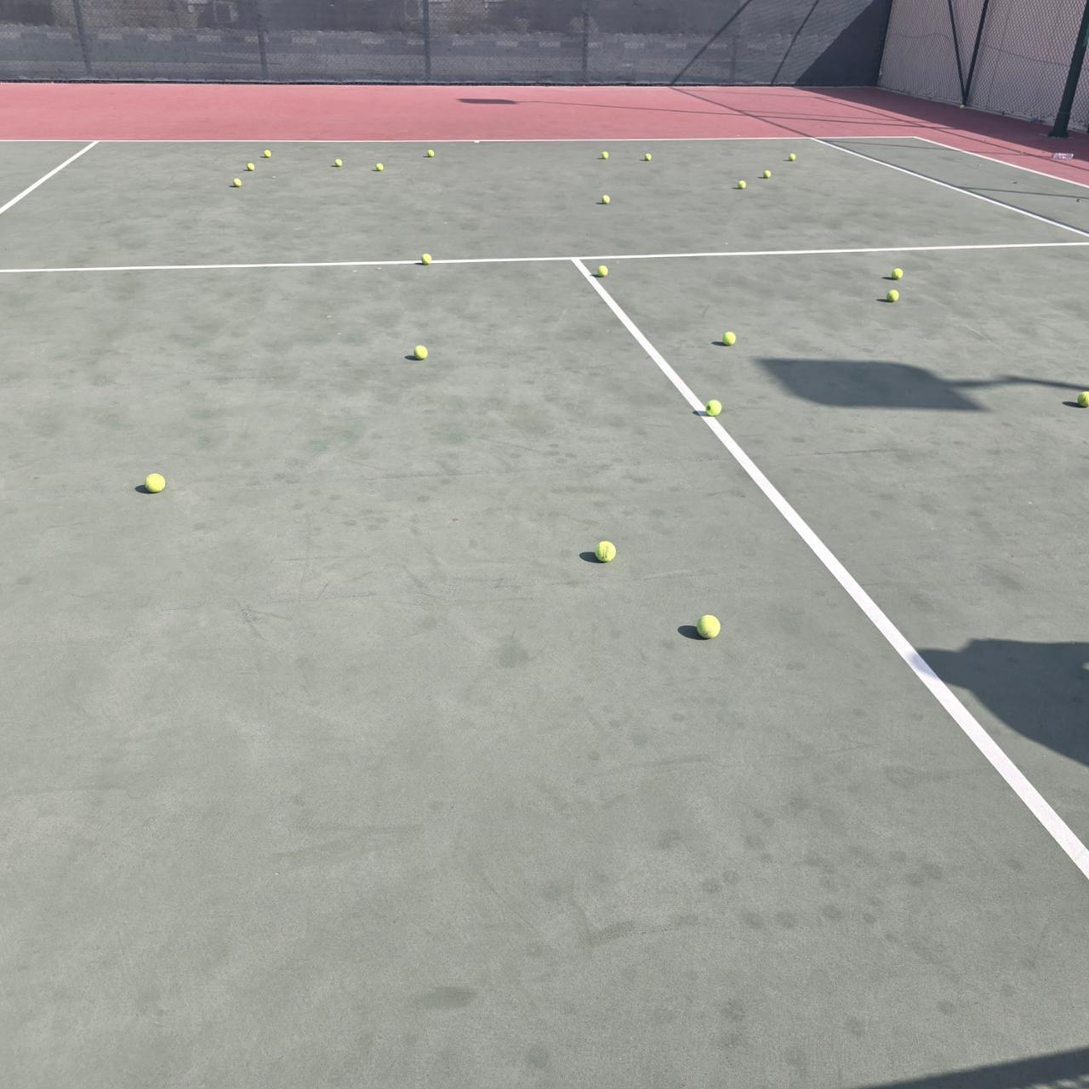tennis-ball: (695, 612, 721, 639), (593, 538, 616, 562), (143, 470, 166, 493), (705, 397, 722, 415), (413, 342, 428, 359), (721, 329, 736, 345), (1075, 389, 1088, 407), (890, 265, 903, 280), (596, 263, 608, 277), (887, 288, 899, 302), (421, 253, 432, 265), (232, 178, 242, 188), (334, 158, 343, 167), (601, 195, 610, 204), (738, 181, 747, 190), (763, 170, 772, 179), (247, 162, 255, 171), (264, 149, 272, 158), (644, 153, 652, 162), (376, 163, 384, 171), (602, 151, 610, 159), (428, 149, 435, 157), (788, 154, 796, 161)
